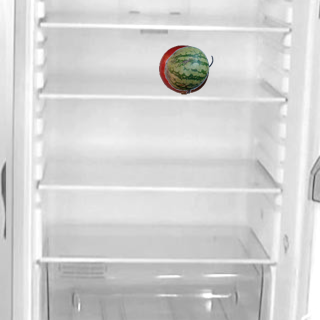Apple Braeburn: (158, 44, 208, 94)
Watermelon: (163, 44, 213, 94)
